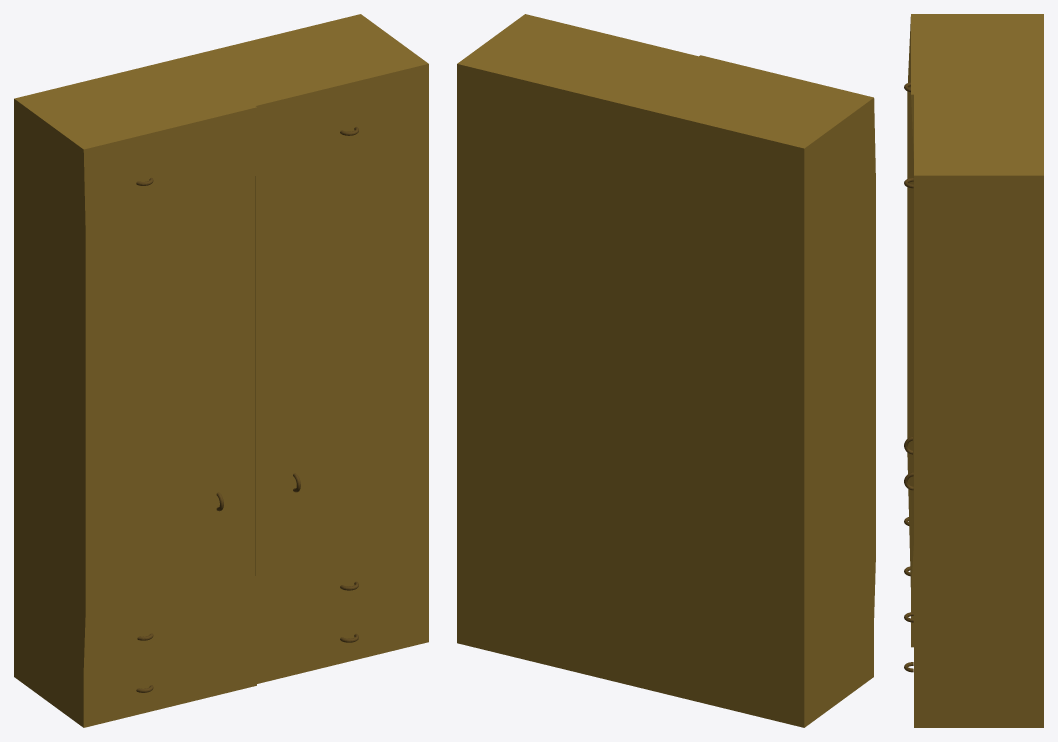
File: wardrobe.fbx
The picture shows the model from 3 angles, left to right: view 1: azimuth 30°, elevation 25°; view 2: azimuth 150°, elevation 25°; view 3: azimuth 270°, elevation 25°; orthographic projection. The views are drawn at different scales.
Parts seen in each view (by area): view 1: Wardrobe; view 2: Wardrobe; view 3: Wardrobe.
Boxes of the visible parts, x1,y1,x2,y2 form: Wardrobe: [14, 14, 428, 727]; Wardrobe: [457, 14, 875, 727]; Wardrobe: [907, 14, 1043, 727].
Bounding box in the file's own units: 624 × 994 × 228.
